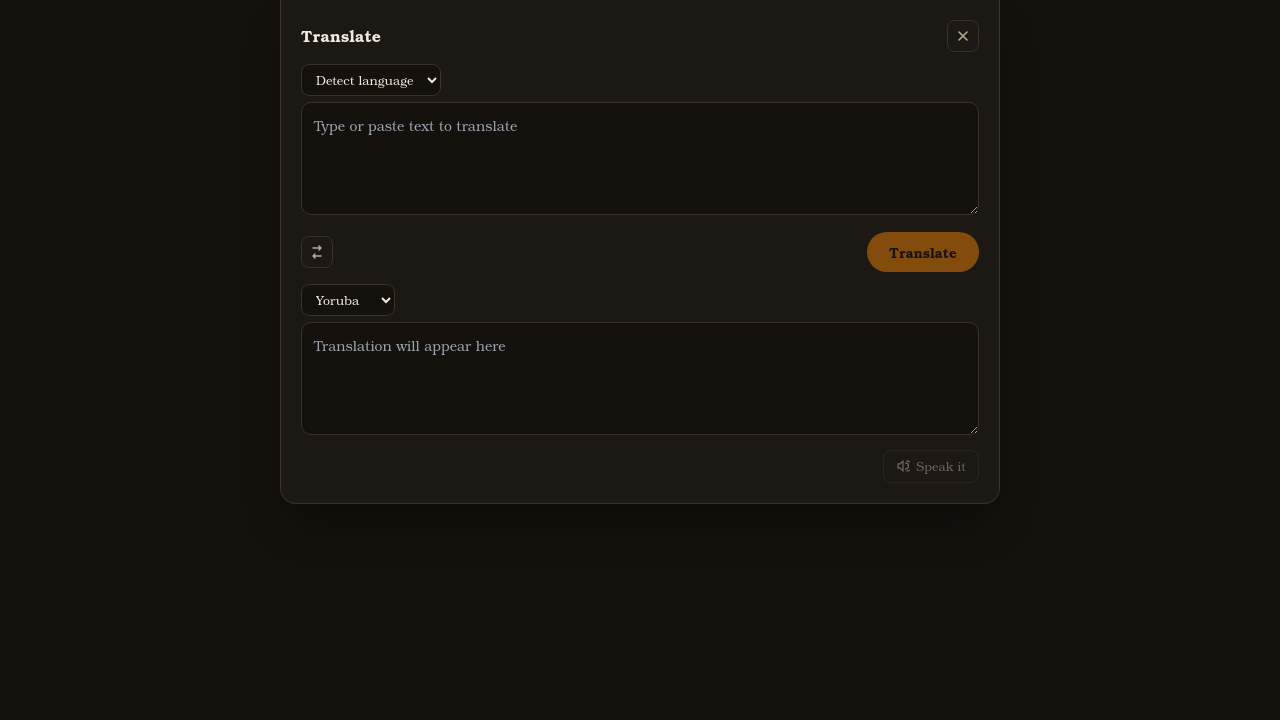
Scenario: TranslatePad › translates text and renders the result
Type "Good morning." into the text box with placeholder "Type or paste text to translate".
click(640, 158); type("Good morning.")  # box [301,102,979,215]
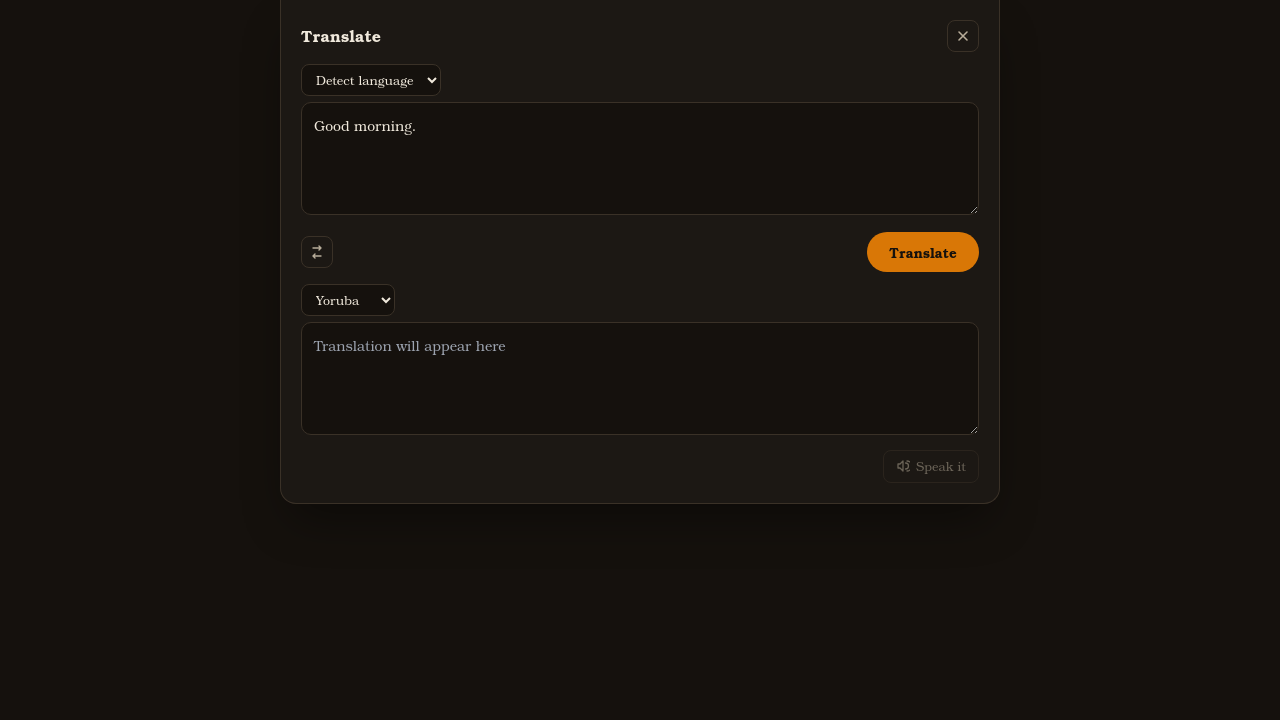
Click the button "Translate".
click(923, 252)  # box [867,232,979,272]
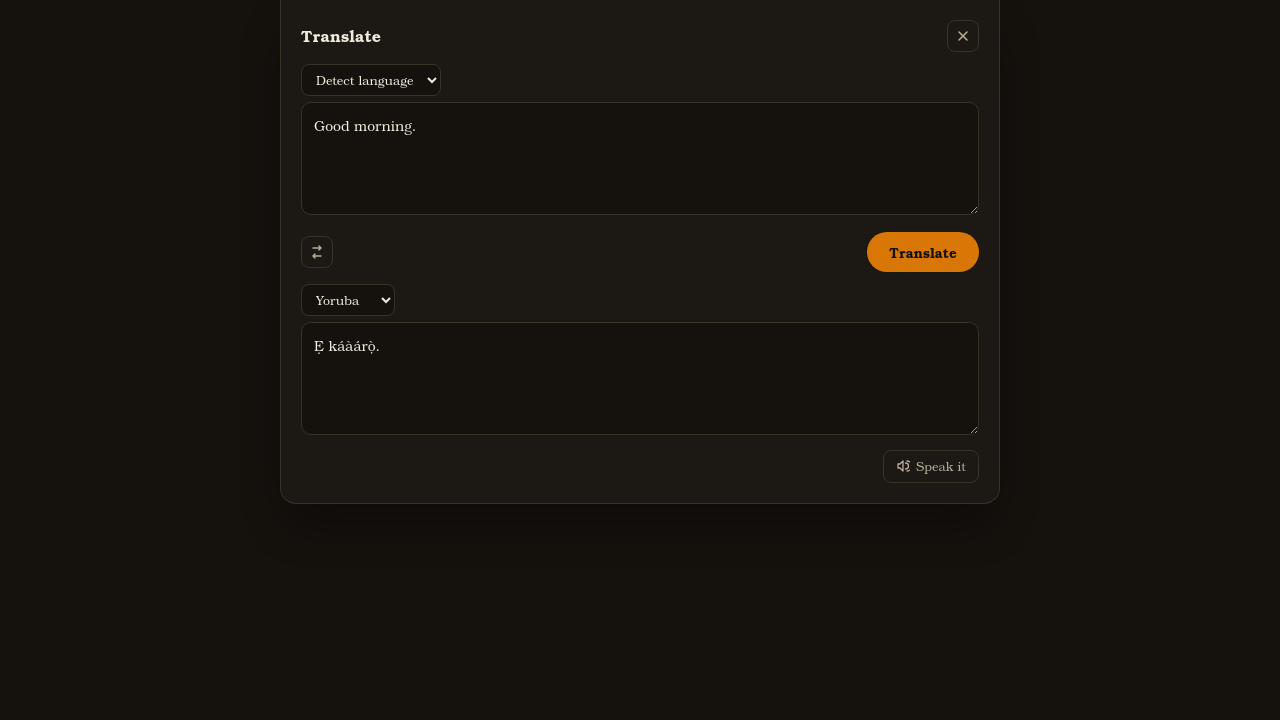
Now the text box with placeholder "Translation will appear here" holds "Ẹ káàárọ̀.", box [301,322,979,435]
